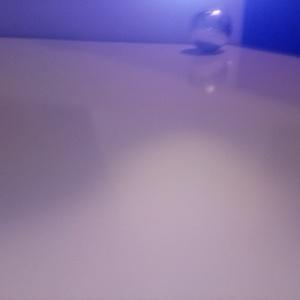alive_ball: (191, 8, 231, 51)
